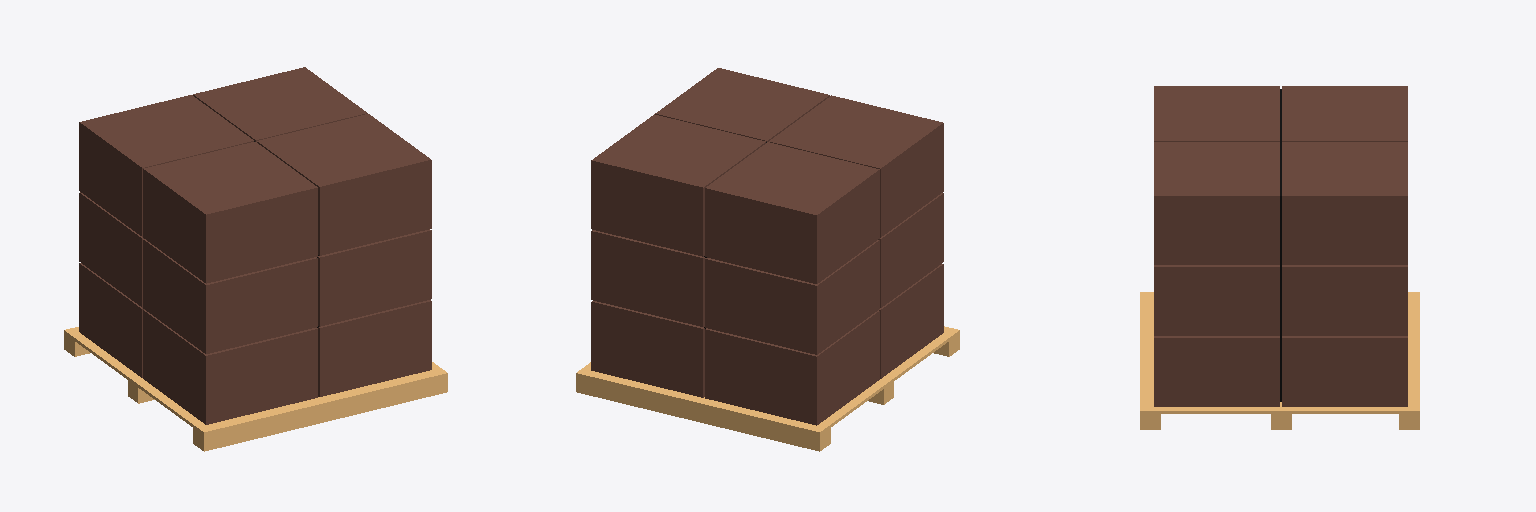
3 renders of one model, left to right at view 1: azimuth 30°, elevation 25°; view 2: azimuth 150°, elevation 25°; view 3: azimuth 270°, elevation 25°, orthographic.
Parts seen in each view (by area): view 1: group[number redacted], group[number redacted], group[number redacted], group[number redacted], group[number redacted], group[number redacted], group[number redacted], group[number redacted], group[number redacted], group[number redacted], group[number redacted], group[number redacted]; view 2: group[number redacted], group[number redacted], group[number redacted], group[number redacted], group[number redacted], group[number redacted], group[number redacted], group[number redacted], group[number redacted], group[number redacted], group[number redacted], group[number redacted]; view 3: group[number redacted], group[number redacted], group[number redacted], group[number redacted], group[number redacted], group[number redacted], group[number redacted], group[number redacted], group[number redacted], group[number redacted], group[number redacted], group[number redacted].
Boxes of the visible parts, x1=… form: group[number redacted]: x1=143, y1=142, x2=317, y2=283; group[number redacted]: x1=257, y1=114, x2=431, y2=255; group[number redacted]: x1=143, y1=310, x2=317, y2=424; group[number redacted]: x1=143, y1=239, x2=317, y2=353; group[number redacted]: x1=79, y1=95, x2=253, y2=236; group[number redacted]: x1=318, y1=229, x2=431, y2=326; group[number redacted]: x1=318, y1=300, x2=431, y2=396; group[number redacted]: x1=193, y1=67, x2=367, y2=141; group[number redacted]: x1=193, y1=365, x2=447, y2=451; group[number redacted]: x1=79, y1=263, x2=144, y2=377; group[number redacted]: x1=79, y1=192, x2=143, y2=307; group[number redacted]: x1=75, y1=336, x2=202, y2=427; group[number redacted]: x1=705, y1=142, x2=879, y2=283; group[number redacted]: x1=591, y1=114, x2=765, y2=256; group[number redacted]: x1=705, y1=240, x2=879, y2=354; group[number redacted]: x1=705, y1=310, x2=879, y2=425; group[number redacted]: x1=769, y1=95, x2=943, y2=237; group[number redacted]: x1=591, y1=301, x2=704, y2=397; group[number redacted]: x1=591, y1=230, x2=704, y2=326; group[number redacted]: x1=655, y1=68, x2=829, y2=141; group[number redacted]: x1=576, y1=365, x2=830, y2=451; group[number redacted]: x1=879, y1=264, x2=943, y2=378; group[number redacted]: x1=878, y1=193, x2=943, y2=307; group[number redacted]: x1=821, y1=336, x2=949, y2=426; group[number redacted]: x1=1282, y1=142, x2=1407, y2=264; group[number redacted]: x1=1154, y1=142, x2=1279, y2=264; group[number redacted]: x1=1282, y1=265, x2=1407, y2=335; group[number redacted]: x1=1154, y1=265, x2=1279, y2=335; group[number redacted]: x1=1282, y1=336, x2=1407, y2=406; group[number redacted]: x1=1154, y1=336, x2=1279, y2=406; group[number redacted]: x1=1282, y1=86, x2=1407, y2=141; group[number redacted]: x1=1154, y1=86, x2=1279, y2=141; group[number redacted]: x1=1140, y1=292, x2=1160, y2=429; group[number redacted]: x1=1399, y1=292, x2=1419, y2=429; group[number redacted]: x1=1160, y1=407, x2=1398, y2=413; group[number redacted]: x1=1280, y1=89, x2=1281, y2=401.
Size of the model in its own units: 1.59 by 1.43 by 1.58.